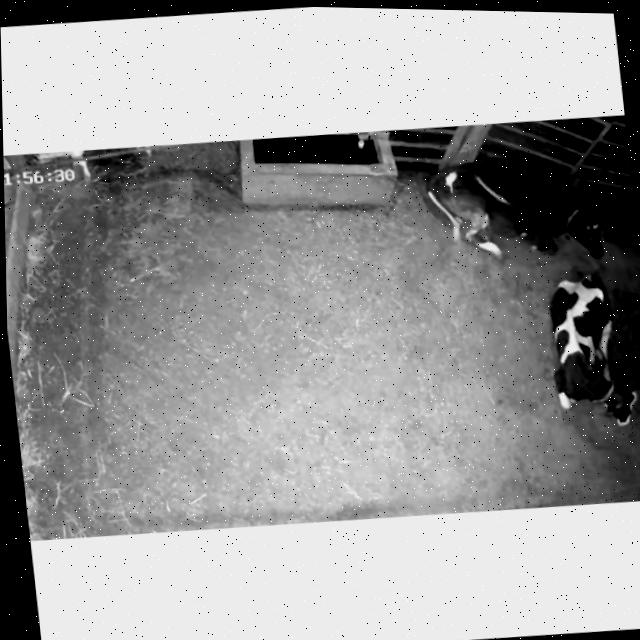lay: (418, 139, 611, 274), (528, 256, 640, 441)
